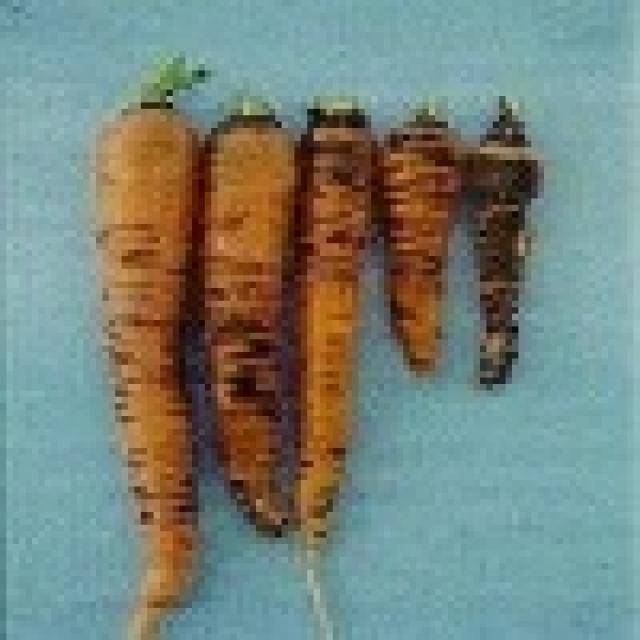Stale_Carrot: (200, 109, 374, 536), (96, 101, 202, 639)
